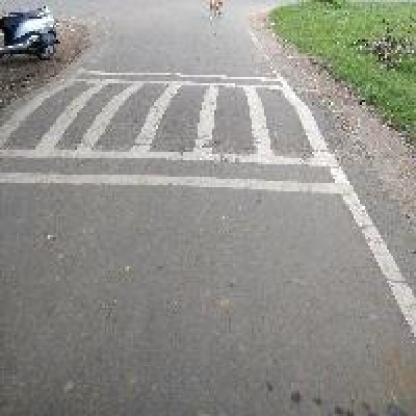Speed Bump: (0, 66, 354, 196)
